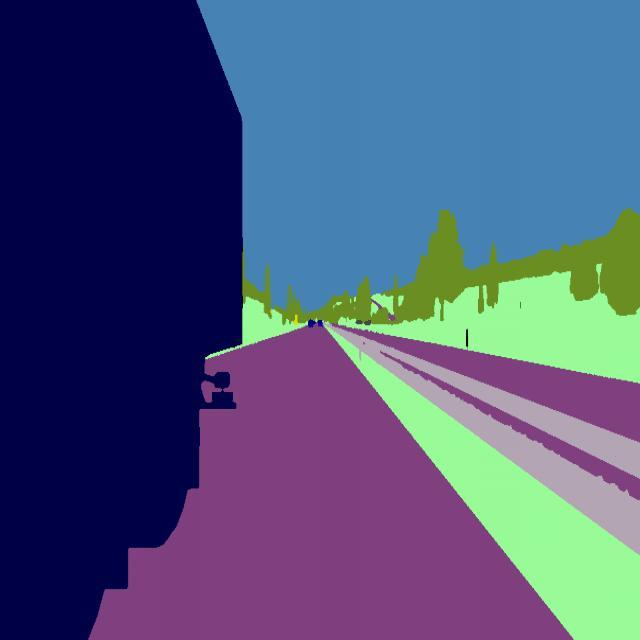safe: (306, 317, 316, 332), (316, 316, 324, 329)
unsafe: (0, 0, 248, 640)
